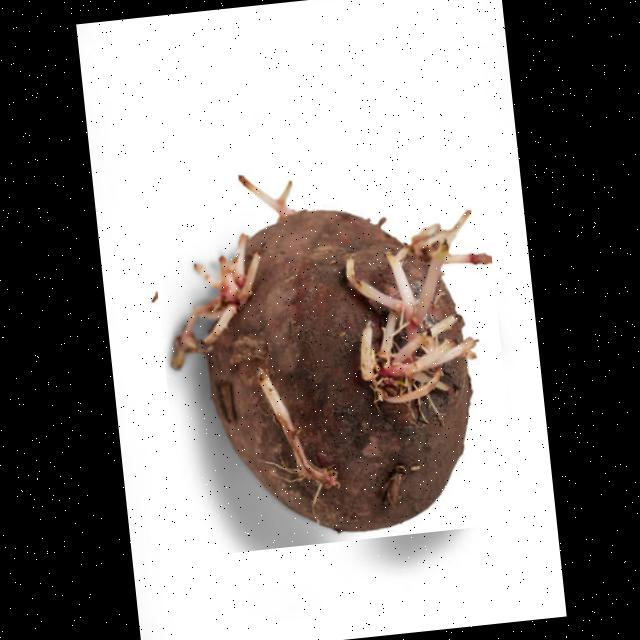Sprouted potato: (144, 142, 518, 558)
